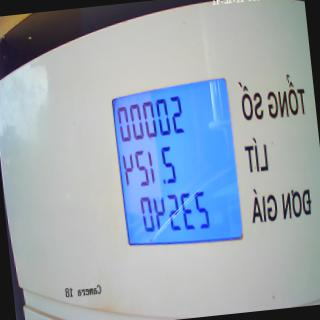screen: (108, 72, 245, 252)
